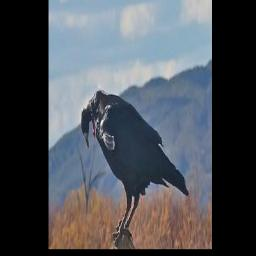Crow: (80, 87, 190, 246)
